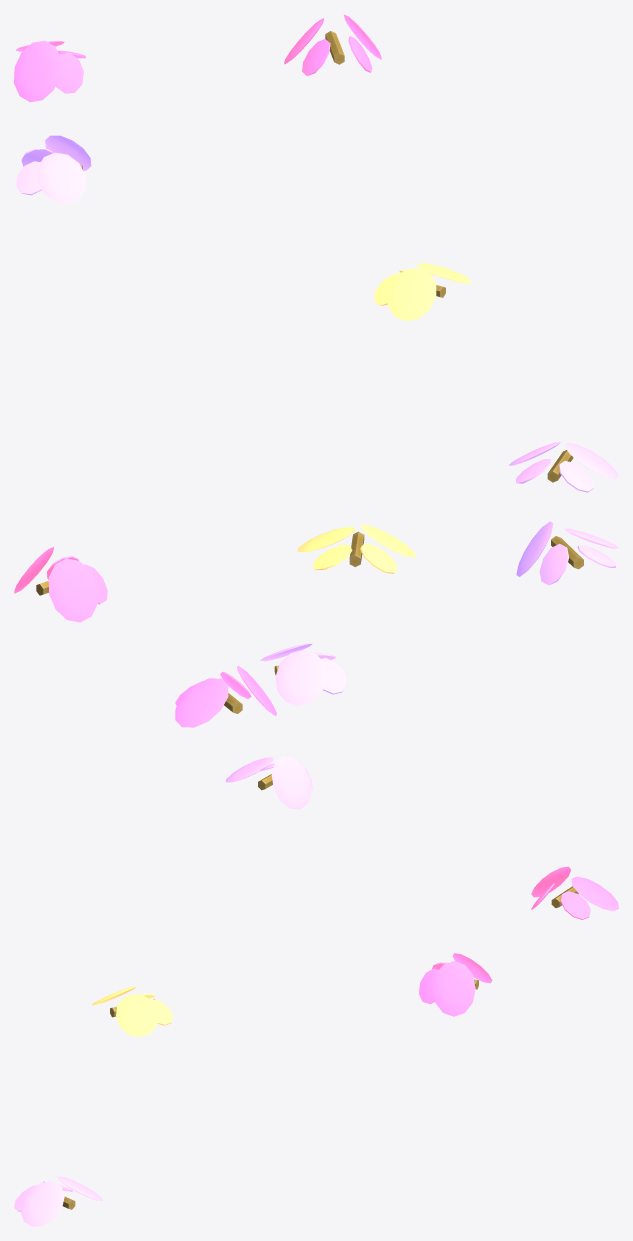
The model's file is hs_butterflies.glb.
3 views of the same model, one above another, from view 1: azimuth 30°, elevation 25°; view 2: azimuth 150°, elevation 25°; view 3: azimuth 270°, elevation 25° (orthographic). The views are drawn at different scales.
Parts seen in each view (by area): view 1: hs_butterflies; view 2: hs_butterflies; view 3: hs_butterflies.
Boxes of the visible parts, box(x1,y1,x2,y2) form: hs_butterflies: box(14, 14, 618, 492); hs_butterflies: box(14, 521, 618, 727); hs_butterflies: box(14, 756, 618, 1226).
Size of the model in its own units: 2.17 by 1.5 by 2.79.
4 materials, 4 textured.
